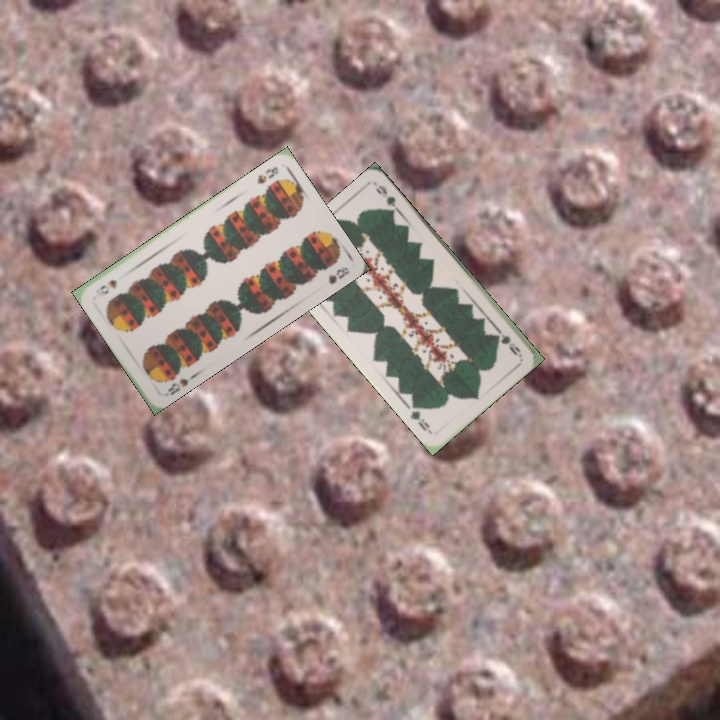G9: (493, 325, 524, 359)
S8: (160, 374, 191, 400), (253, 162, 281, 187)
